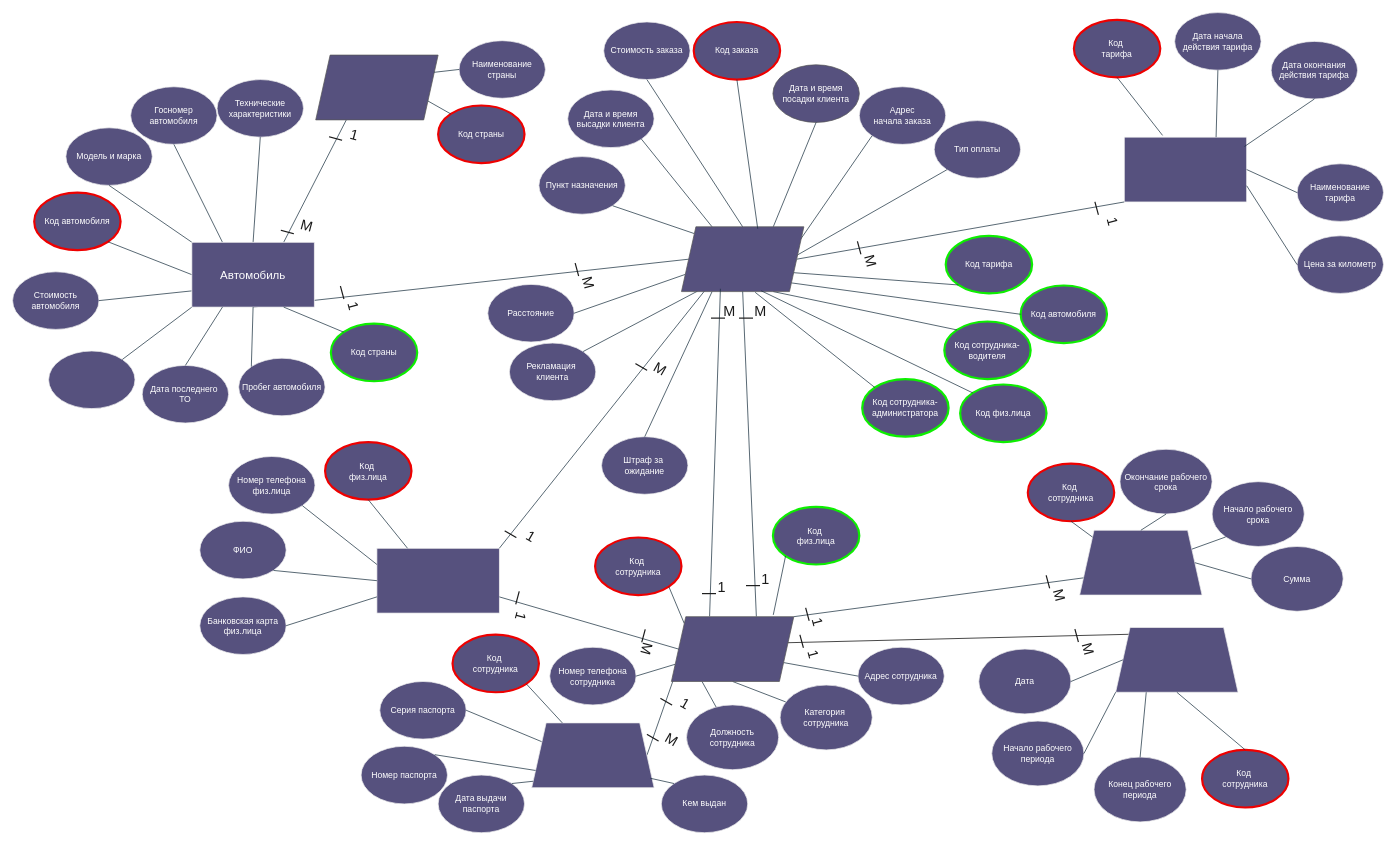
Some shapes in this 1396 by 845 pixel diagram are drawn without their labels. Here are the shapes that lost their labels. From the top down, the centre of each, then its label:
At [376,87]: "Страна-производитель".
At [1185,169]: "Тариф".
At [742,259]: "Заказ".
At [91,379]: "Владелец".
At [437,580]: "Физическое лицо".
At [1140,562]: "Заработная плата сотрудника".
At [732,648]: "Сотрудник".
At [1176,659]: "График работы сотрудника".
At [592,755]: "Паспортные данные сотрудника".
